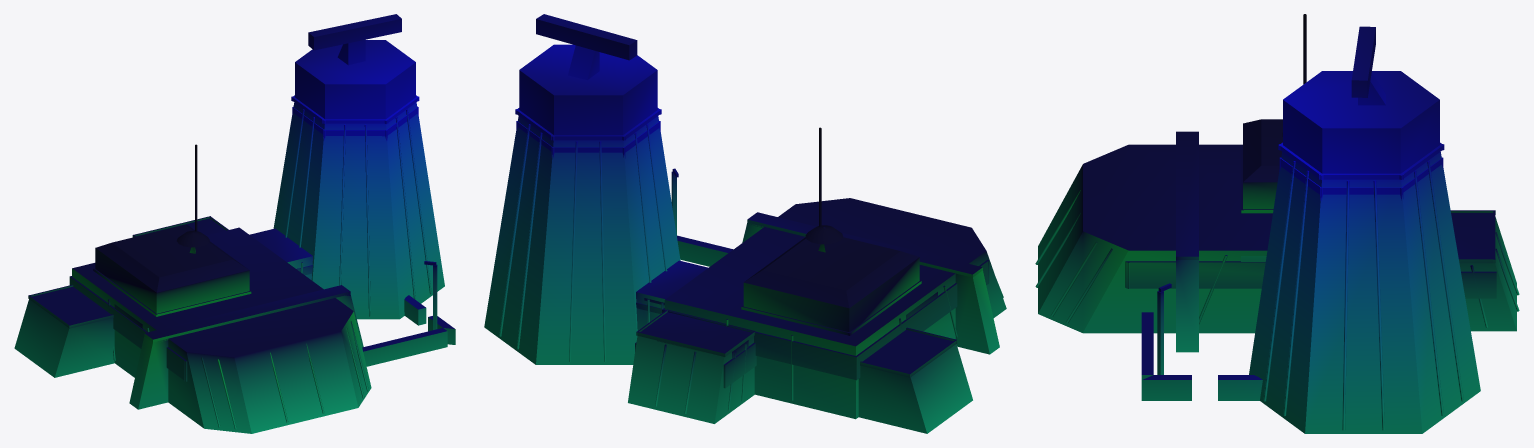
File: d_turretcontrol_damaged.glb
3 renders of one model, left to right at view 1: azimuth 30°, elevation 25°; view 2: azimuth 150°, elevation 25°; view 3: azimuth 270°, elevation 25°, orthographic. The views are drawn at different scales.
Visible parts, largest first — view 1: lod0_d_turretcontrol; view 2: lod0_d_turretcontrol; view 3: lod0_d_turretcontrol.
Boxes of the visible parts, x1,y1,x2,y2 form: lod0_d_turretcontrol: [14, 14, 455, 433]; lod0_d_turretcontrol: [484, 14, 1006, 433]; lod0_d_turretcontrol: [1035, 14, 1519, 433].
Size of the model in its own units: 24.17 by 15.49 by 20.12.
